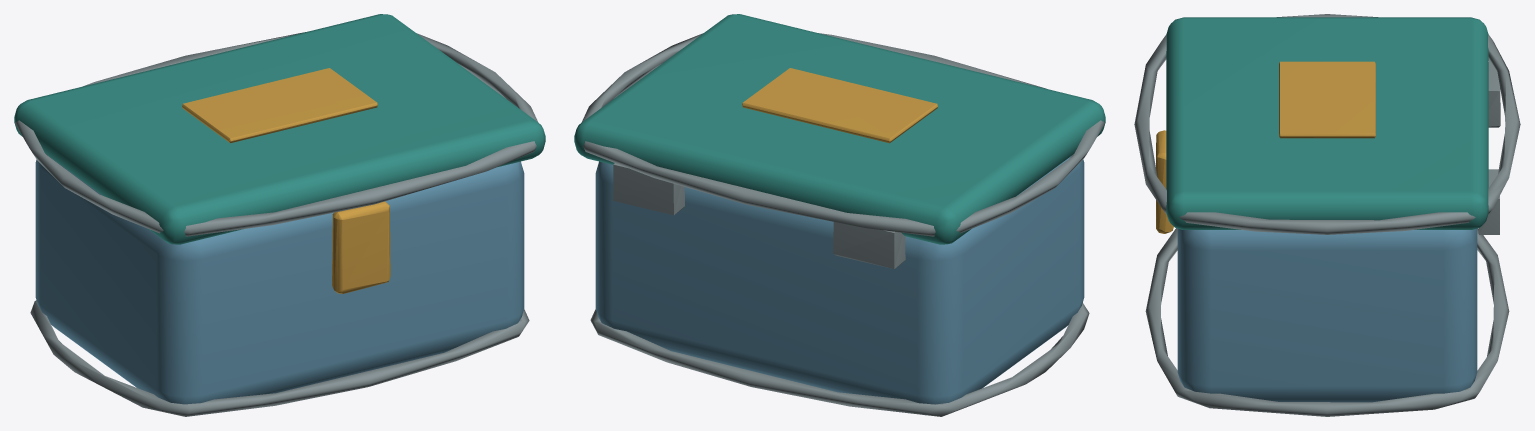
Rendered from tin.glb.
3 renders of one model, left to right at view 1: azimuth 30°, elevation 25°; view 2: azimuth 150°, elevation 25°; view 3: azimuth 270°, elevation 25°, orthographic.
Visible parts, largest first — view 1: Crafted_blue, Crafted_teal, Crafted_metal, Crafted_brass; view 2: Crafted_blue, Crafted_teal, Crafted_metal, Crafted_brass; view 3: Crafted_teal, Crafted_blue, Crafted_metal, Crafted_brass.
Part boxes in pixels (x1,y1,x2,y2): Crafted_blue: (35,156,524,404); Crafted_teal: (14,14,545,244); Crafted_metal: (15,32,538,416); Crafted_brass: (182,68,390,293); Crafted_blue: (595,156,1084,404); Crafted_teal: (574,14,1105,244); Crafted_metal: (581,33,1104,416); Crafted_brass: (742,68,937,143); Crafted_teal: (1166,17,1488,229); Crafted_blue: (1177,228,1477,402); Crafted_metal: (1134,14,1520,416); Crafted_brass: (1156,61,1375,233).
Bounding box in the file's own units: 0.6748 × 0.3397 × 0.5152.
